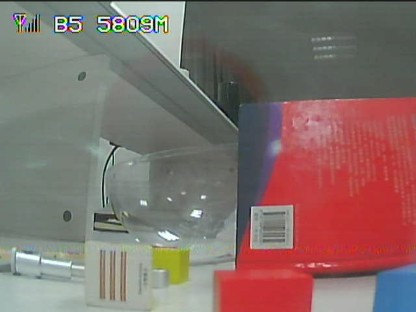b: (377, 270, 414, 310)
r: (217, 277, 309, 310)
